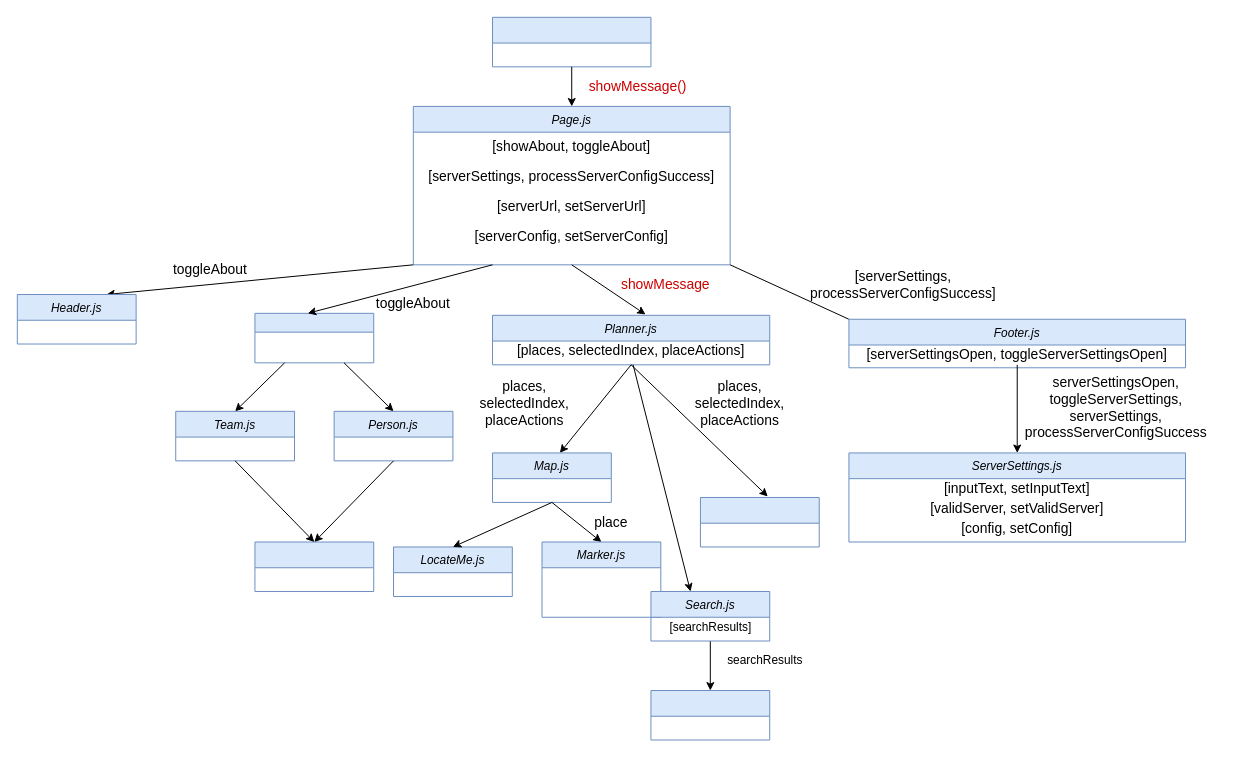
Some shapes in this 1233 by 757 pixel diagram are drawn without their labels. Here are the shapes that lost their labels. From the top down, the centre of each, then its label:
At point (571, 41): "App.js".
At point (314, 337): "About.js".
At point (759, 521): "Itinerary.js".
At point (314, 566): "AboutCard.js".
At point (710, 715): "Results.js".
